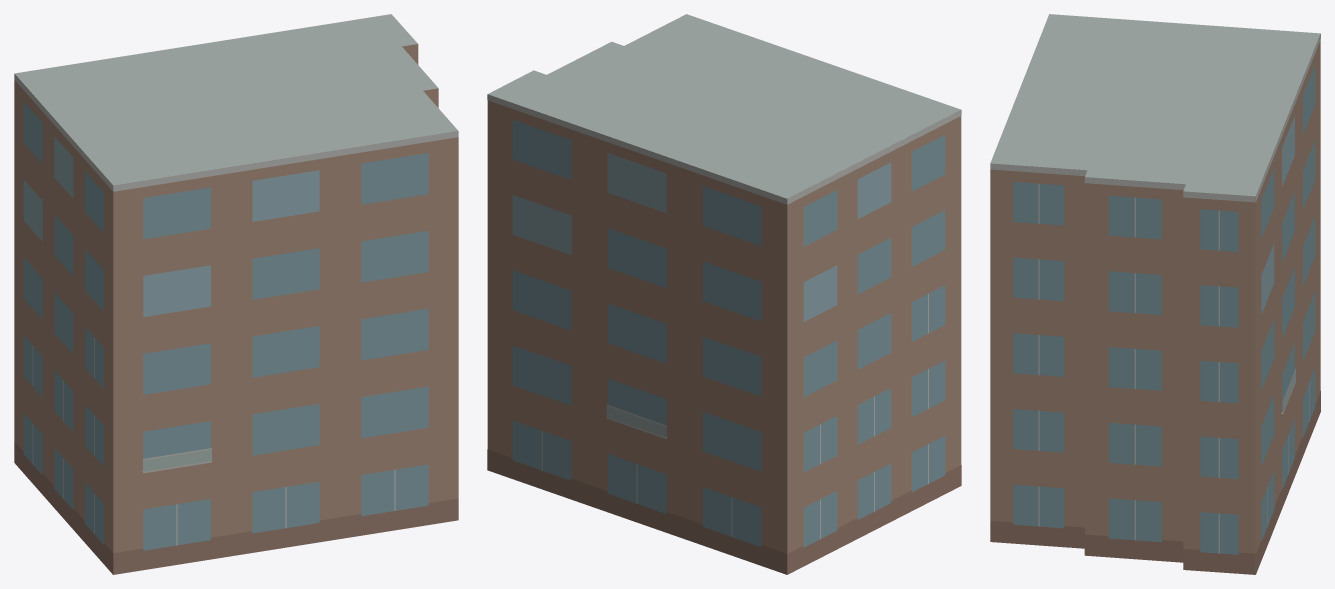
File: survey-upis-32751239.glb
The picture shows the model from 3 angles, left to right: view 1: azimuth 30°, elevation 25°; view 2: azimuth 150°, elevation 25°; view 3: azimuth 270°, elevation 25°; orthographic projection. The views are drawn at different scales.
Parts seen in each view (by area): view 1: survey-upis-32751239.tmp; view 2: survey-upis-32751239.tmp; view 3: survey-upis-32751239.tmp.
Boxes of the visible parts, x1=… form: survey-upis-32751239.tmp: x1=14, y1=14, x2=458, y2=574; survey-upis-32751239.tmp: x1=487, y1=14, x2=961, y2=574; survey-upis-32751239.tmp: x1=990, y1=14, x2=1320, y2=574.
Size of the model in its own units: 15.77 by 15.25 by 12.08.
